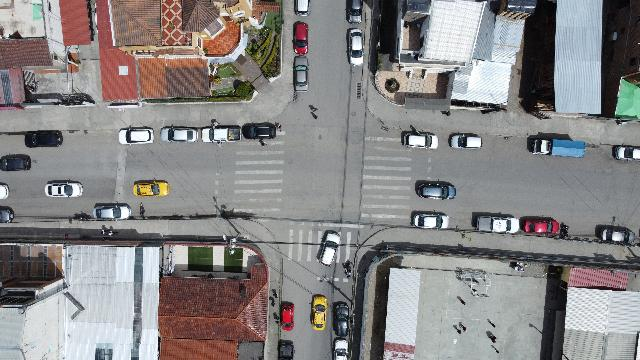Vehiculo: (316, 230, 340, 266), (402, 125, 438, 149), (414, 180, 456, 200), (410, 210, 450, 230), (595, 224, 635, 244), (519, 216, 559, 234), (346, 28, 364, 66), (45, 179, 83, 197), (93, 202, 131, 220), (202, 125, 240, 143), (477, 216, 519, 232), (118, 126, 154, 144), (310, 294, 328, 330), (133, 179, 169, 197), (25, 131, 63, 148), (332, 302, 350, 336), (448, 132, 482, 150), (160, 126, 198, 142), (242, 122, 276, 139), (292, 22, 308, 54), (294, 56, 308, 92), (0, 155, 30, 171), (346, 0, 362, 24), (613, 146, 639, 160), (332, 337, 348, 359), (282, 302, 294, 330), (278, 340, 294, 360), (294, 0, 310, 16), (0, 206, 14, 222), (0, 183, 10, 199)
